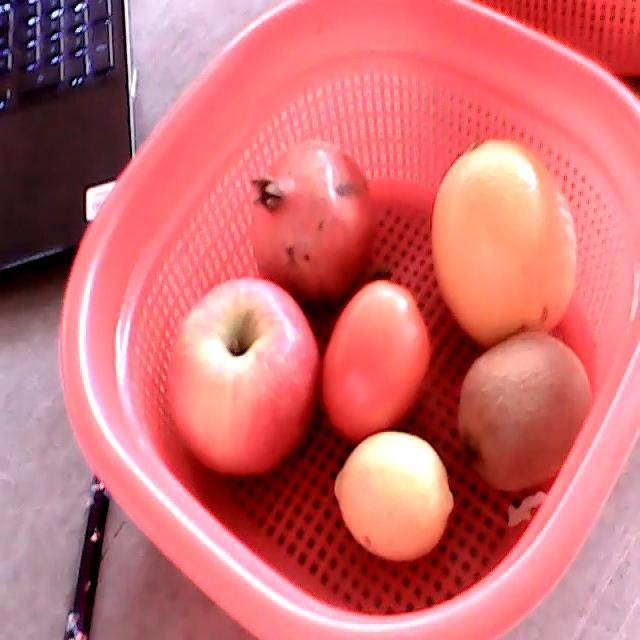apple: (166, 278, 321, 479)
kiwi: (460, 333, 590, 491)
lemon: (332, 430, 455, 561)
orange: (432, 136, 576, 345)
pomegranate: (245, 142, 374, 303)
tomato: (321, 280, 430, 441)
